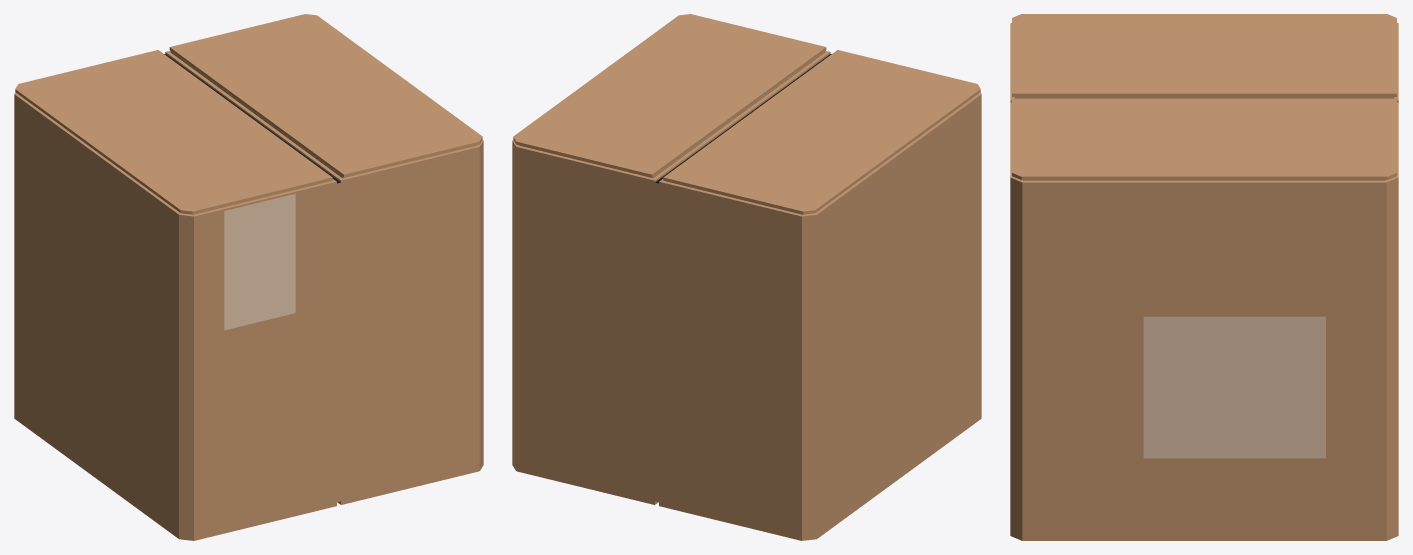
3 renders of one model, left to right at view 1: azimuth 30°, elevation 25°; view 2: azimuth 150°, elevation 25°; view 3: azimuth 270°, elevation 25°, orthographic. The views are drawn at different scales.
Parts seen in each view (by area): view 1: Box 1; view 2: Box 1; view 3: Box 1.
Boxes of the visible parts, left/top/right/bottom form: Box 1: left=14, top=14, right=483, bottom=540; Box 1: left=512, top=14, right=981, bottom=540; Box 1: left=1010, top=14, right=1398, bottom=540.
Bounding box in the file's own units: 0.8274 × 0.8274 × 0.854.
